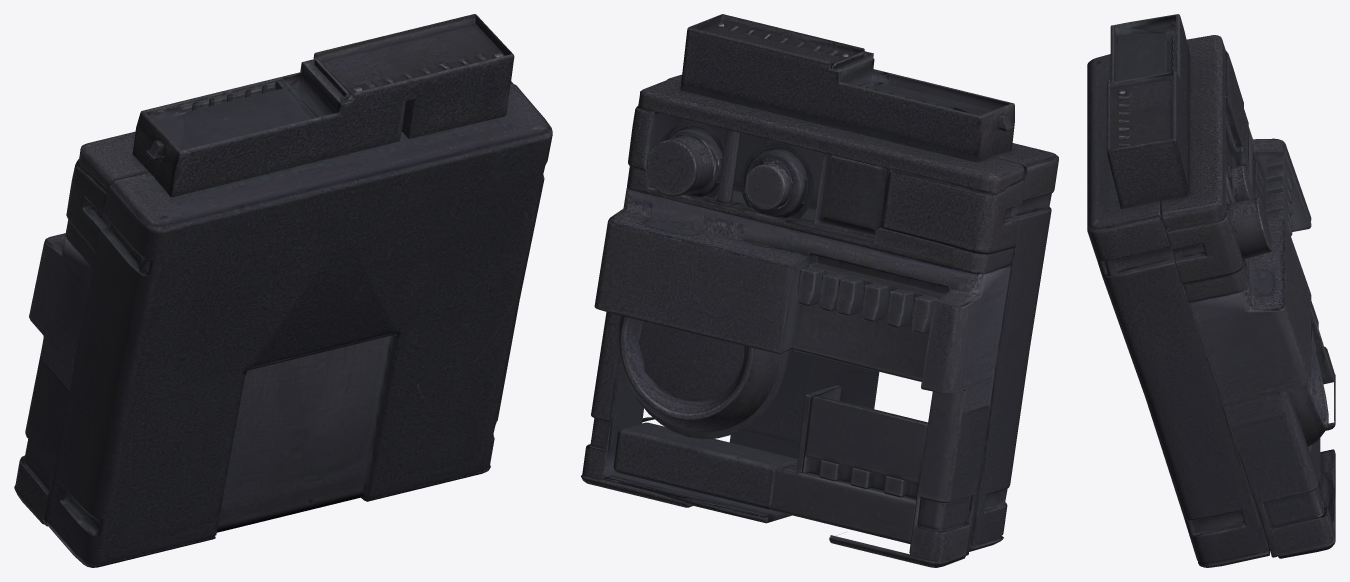
Rendered from window-module.glb.
3 views of the same model, side by side, from view 1: azimuth 30°, elevation 25°; view 2: azimuth 150°, elevation 25°; view 3: azimuth 270°, elevation 25° (orthographic). The views are drawn at different scales.
Visible parts, largest first — view 1: c0f0bcbb_25c0_4588_b043_eff106ab1578; view 2: c0f0bcbb_25c0_4588_b043_eff106ab1578; view 3: c0f0bcbb_25c0_4588_b043_eff106ab1578.
Boxes of the visible parts, bbox=[...] form: c0f0bcbb_25c0_4588_b043_eff106ab1578: bbox=[14, 14, 552, 567]; c0f0bcbb_25c0_4588_b043_eff106ab1578: bbox=[581, 14, 1058, 567]; c0f0bcbb_25c0_4588_b043_eff106ab1578: bbox=[1087, 14, 1335, 567].
Size of the model in its own units: 0.9009 by 0.9995 by 0.5396.
Materials: 1 (1 with a texture image).
